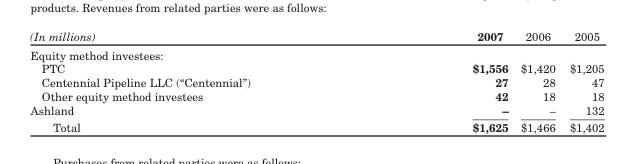table: (29, 28, 603, 133)
table column: (29, 28, 360, 133), (360, 28, 513, 133), (513, 28, 561, 133), (561, 28, 603, 133)
table column header: (29, 28, 603, 44)
table projected row header: (29, 44, 603, 61)
table row: (29, 44, 603, 61), (29, 28, 603, 44), (29, 102, 603, 118), (29, 118, 603, 133), (29, 61, 603, 75), (29, 75, 603, 89), (29, 89, 603, 102)
